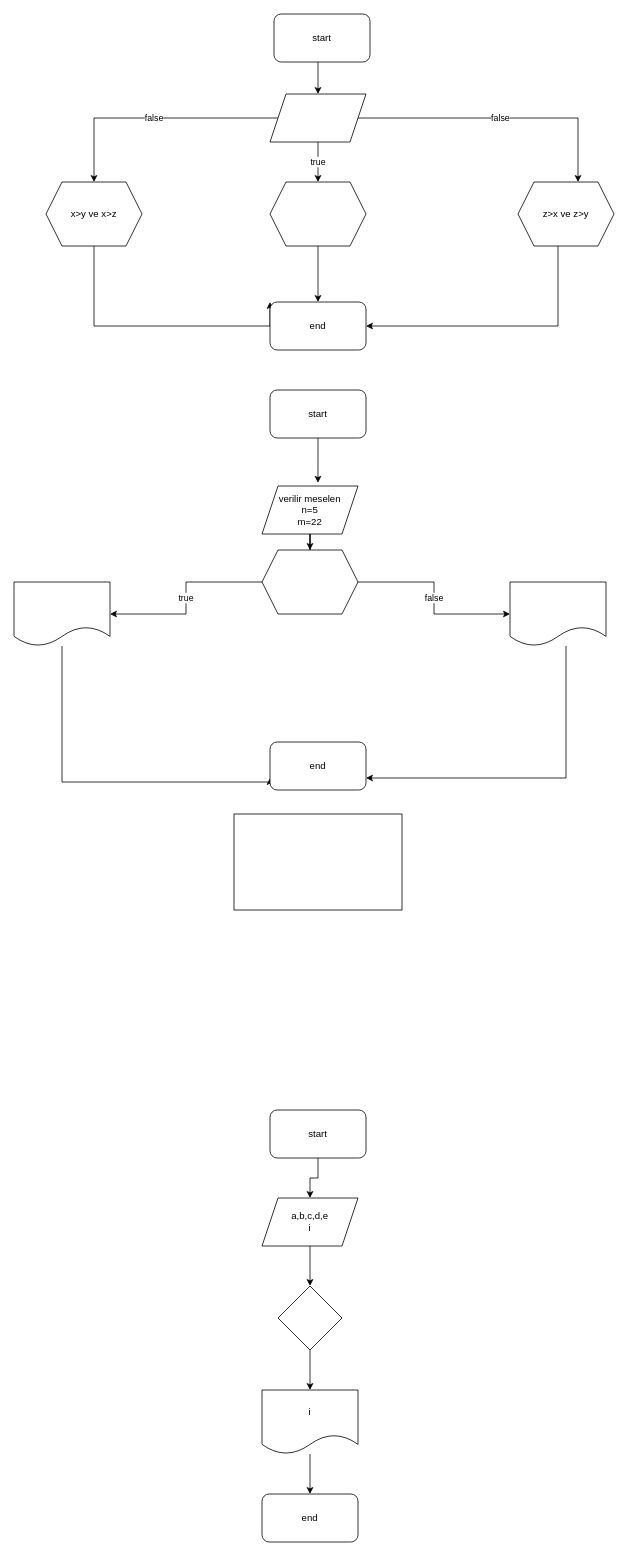
This 628x1556 diagram has some shape labels left out. The centre of each missing label's shape, as x and y in pixels:
"hemise basligi yaxsi gelir davamini da ede bilmirem :(" belongs at (317,861).
"i=a+b+c+d+e i/=5" belongs at (309,1317).
"m-=n m/=2" belongs at (61,613).
"n<m m%2==0" belongs at (309,581).
"verilir meselen x=3 y=15 z=7" belongs at (317,117).
"y>x ve y>z" belongs at (317,213).
